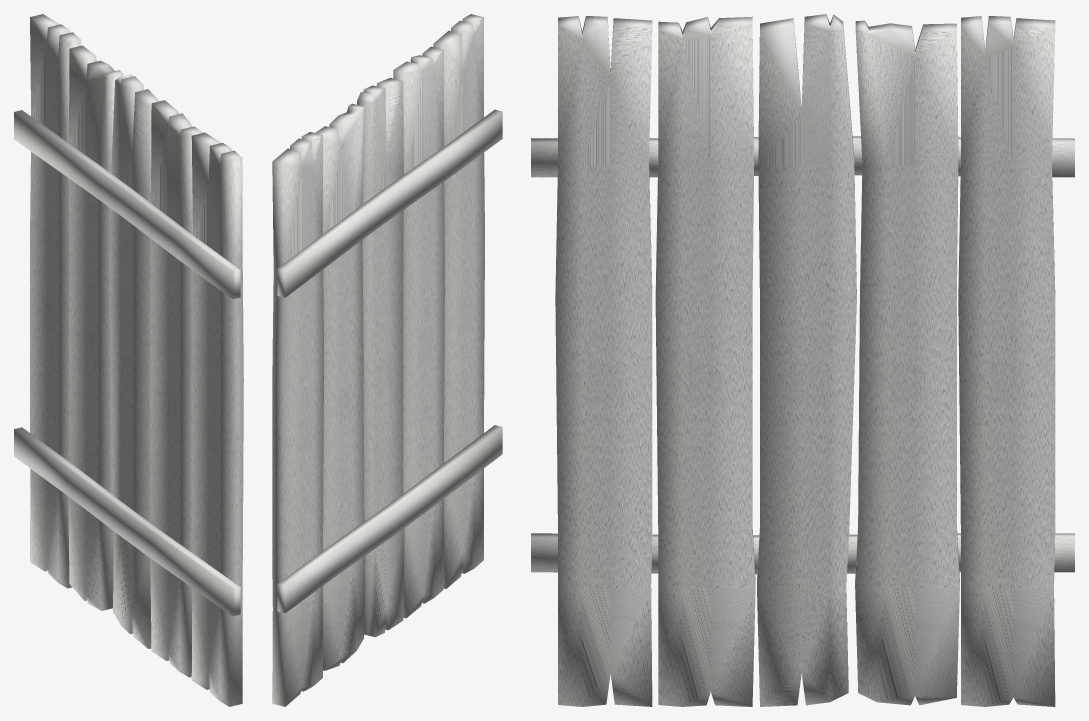
Rendered from fence.fbx.
The picture shows the model from 3 angles, left to right: view 1: azimuth 30°, elevation 25°; view 2: azimuth 150°, elevation 25°; view 3: azimuth 270°, elevation 25°; orthographic projection. The views are drawn at different scales.
Parts seen in each view (by area): view 1: fence_1; view 2: fence_1; view 3: fence_1.
Part boxes in pixels (left/top/right/bottom): fence_1: left=14, top=14, right=243, bottom=706; fence_1: left=272, top=14, right=502, bottom=706; fence_1: left=531, top=14, right=1074, bottom=706.
Size of the model in its own units: 8 by 144 by 200.
1 material, 1 textured.
